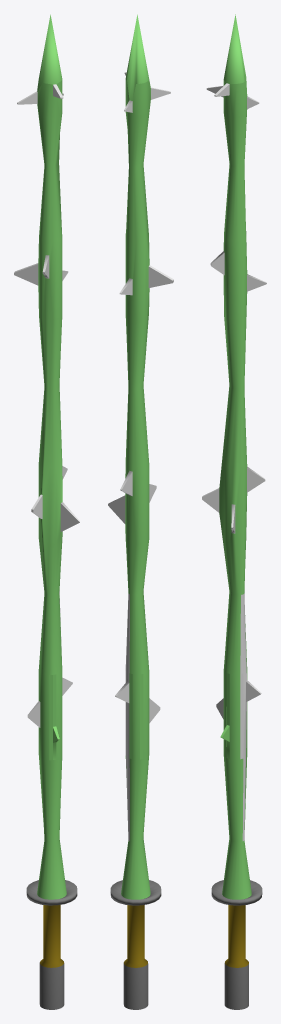
The model's file is Vine Whip.fbx.
3 renders of one model, left to right at view 1: azimuth 30°, elevation 25°; view 2: azimuth 210°, elevation 25°; view 3: azimuth 330°, elevation 25°, orthographic.
Parts seen in each view (by area): view 1: Whip; view 2: Whip; view 3: Whip.
Boxes of the visible parts, x1=… form: Whip: x1=14, y1=14, x2=79, y2=1009; Whip: x1=108, y1=14, x2=173, y2=1009; Whip: x1=202, y1=14, x2=266, y2=1009.
Size of the model in its own units: 1.67 by 28.54 by 1.57.
